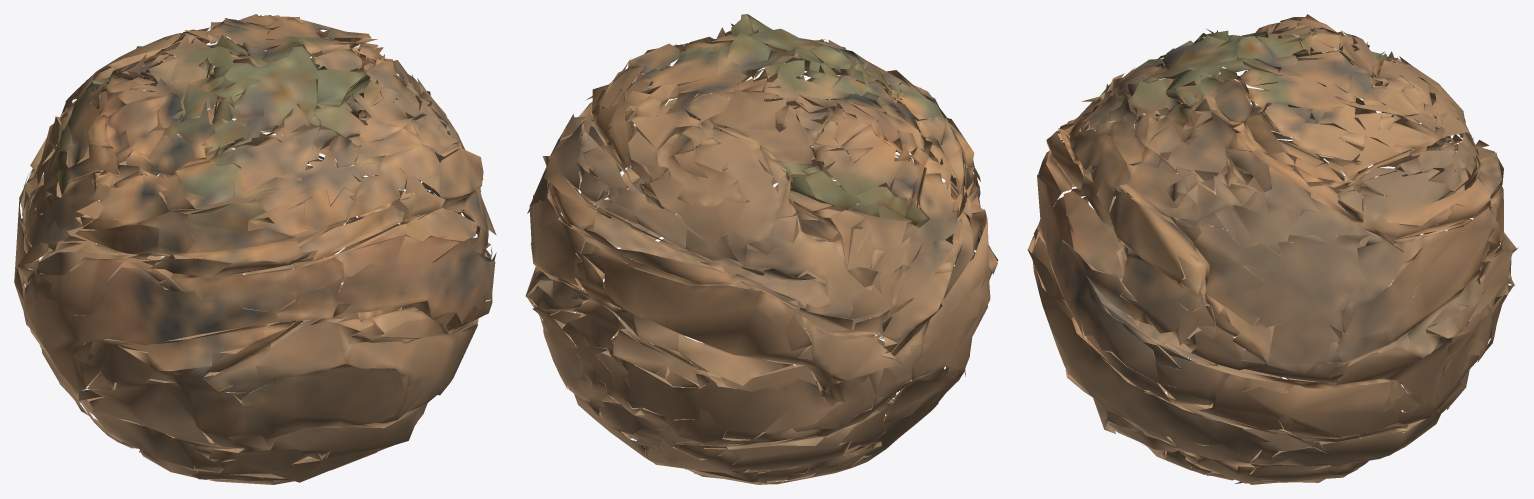
File: boulder.glb
The picture shows the model from 3 angles, left to right: view 1: azimuth 30°, elevation 25°; view 2: azimuth 150°, elevation 25°; view 3: azimuth 270°, elevation 25°; orthographic projection. The views are drawn at different scales.
Visible parts, largest first — view 1: LO.001; view 2: LO.001; view 3: LO.001.
Boxes of the visible parts, x1,y1,x2,y2 form: LO.001: (14, 14, 496, 484); LO.001: (525, 14, 998, 484); LO.001: (1027, 14, 1518, 484).
Bounding box in the file's own units: 0.9808 × 0.9443 × 1.
1 material, 1 textured.
